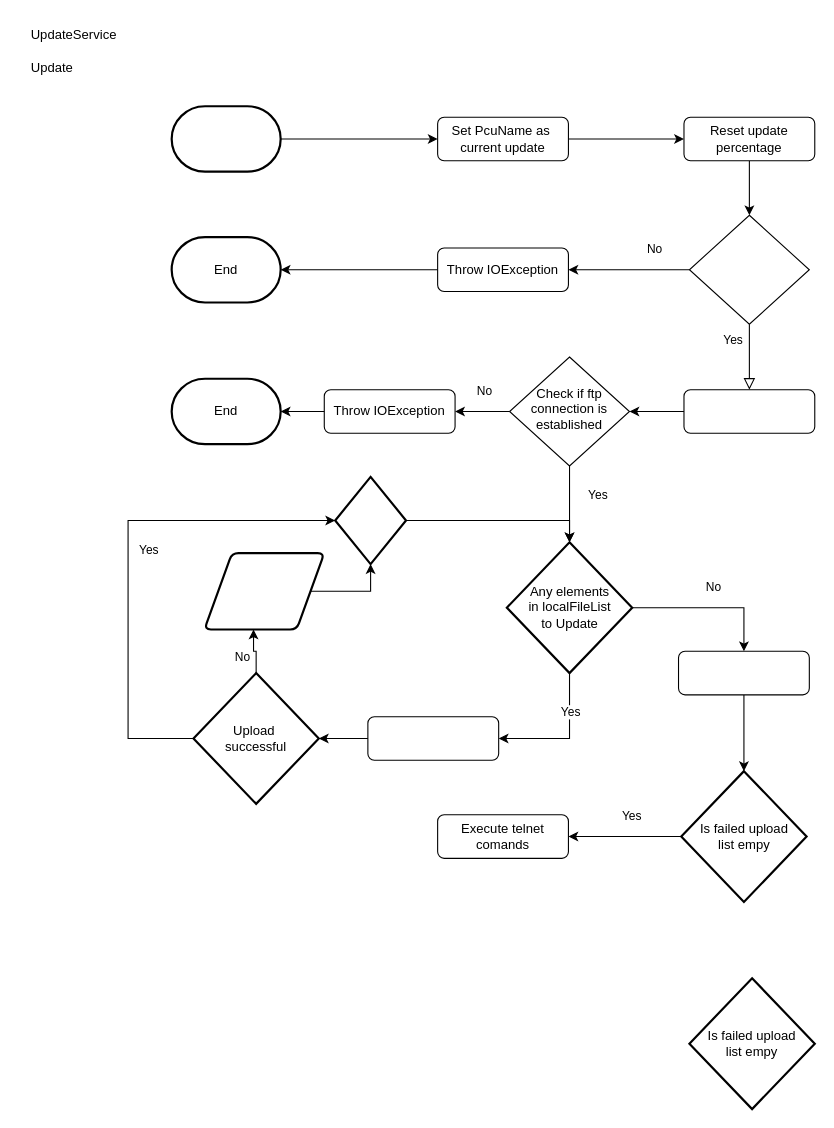
Image size: 834x1128. Some labels were removed from this diagram. The shapes that lost their labels are listed below. From the top down, each one's box as (x1, y1, x2, y2) in pixels, then its label:
(170, 105, 281, 172): Start
(688, 214, 809, 324): Check if host is reachable
(683, 389, 815, 433): Connect to ftp
(203, 552, 325, 630): Add file to failed Upload List
(677, 650, 809, 695): Disconnect from the ftp
(367, 716, 499, 760): Upload file to pcu
